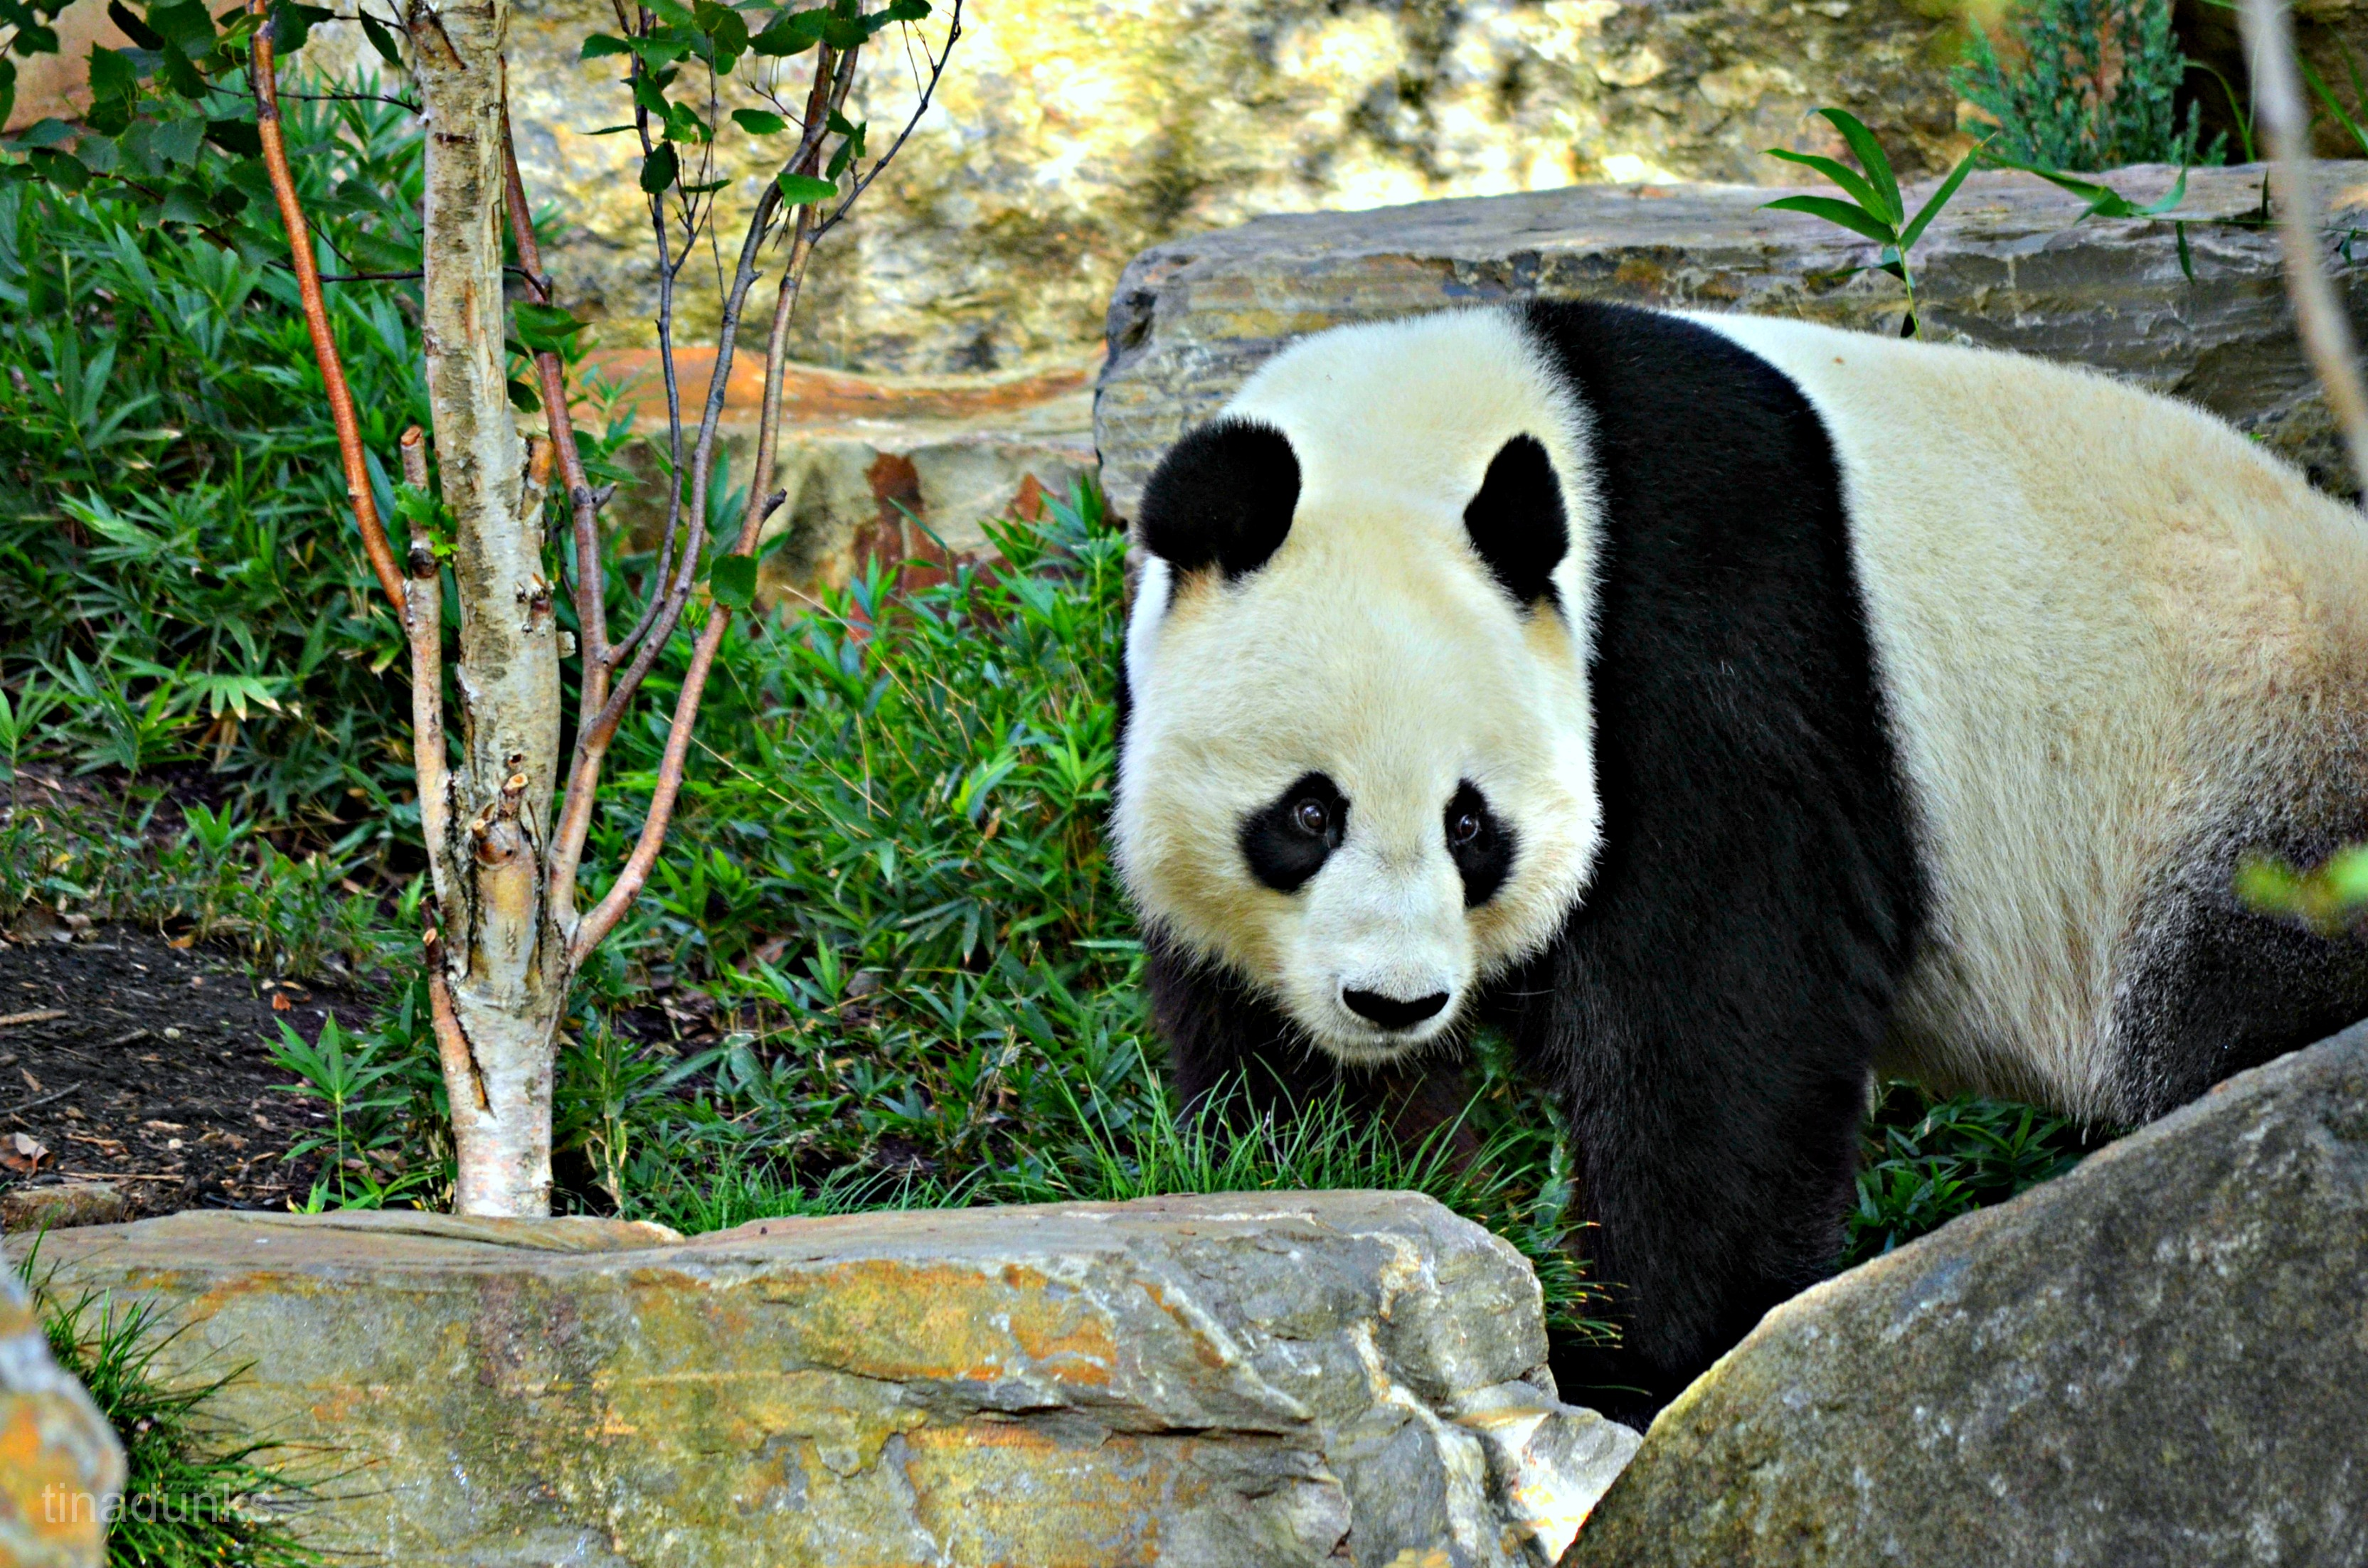panda: (1003, 224, 2300, 1346)
